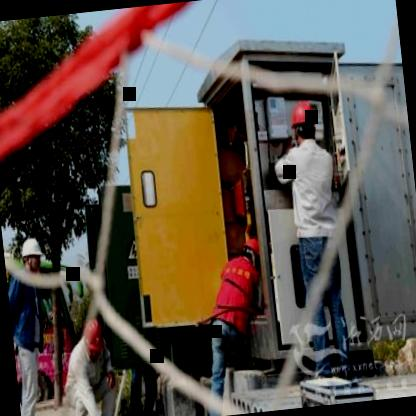helmet: (286, 99, 322, 147), (78, 316, 108, 364), (17, 233, 46, 276), (237, 233, 268, 271)
